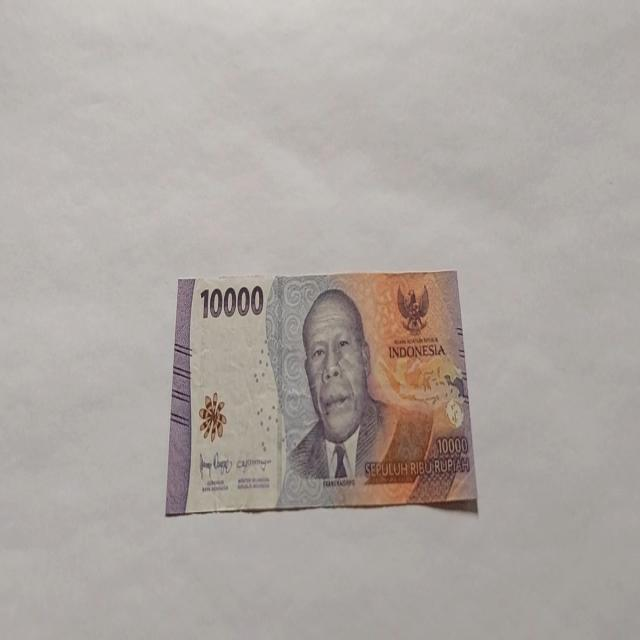sepuluh ribu rupiah: (165, 268, 478, 518)
